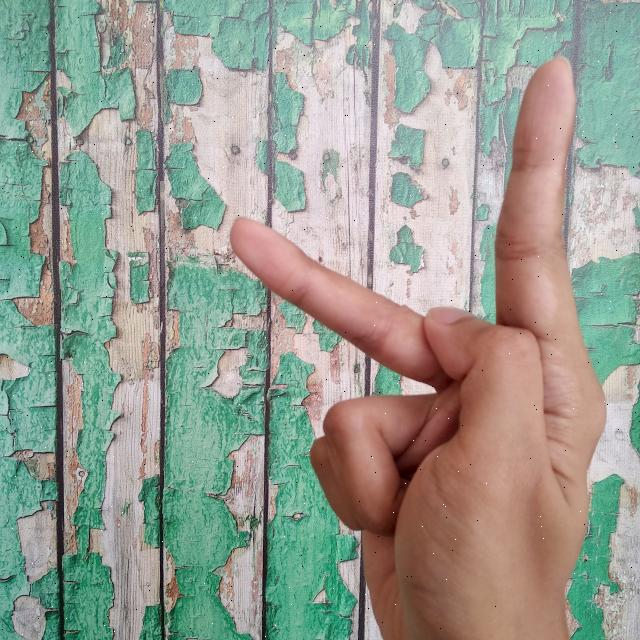K: (223, 51, 610, 640)
